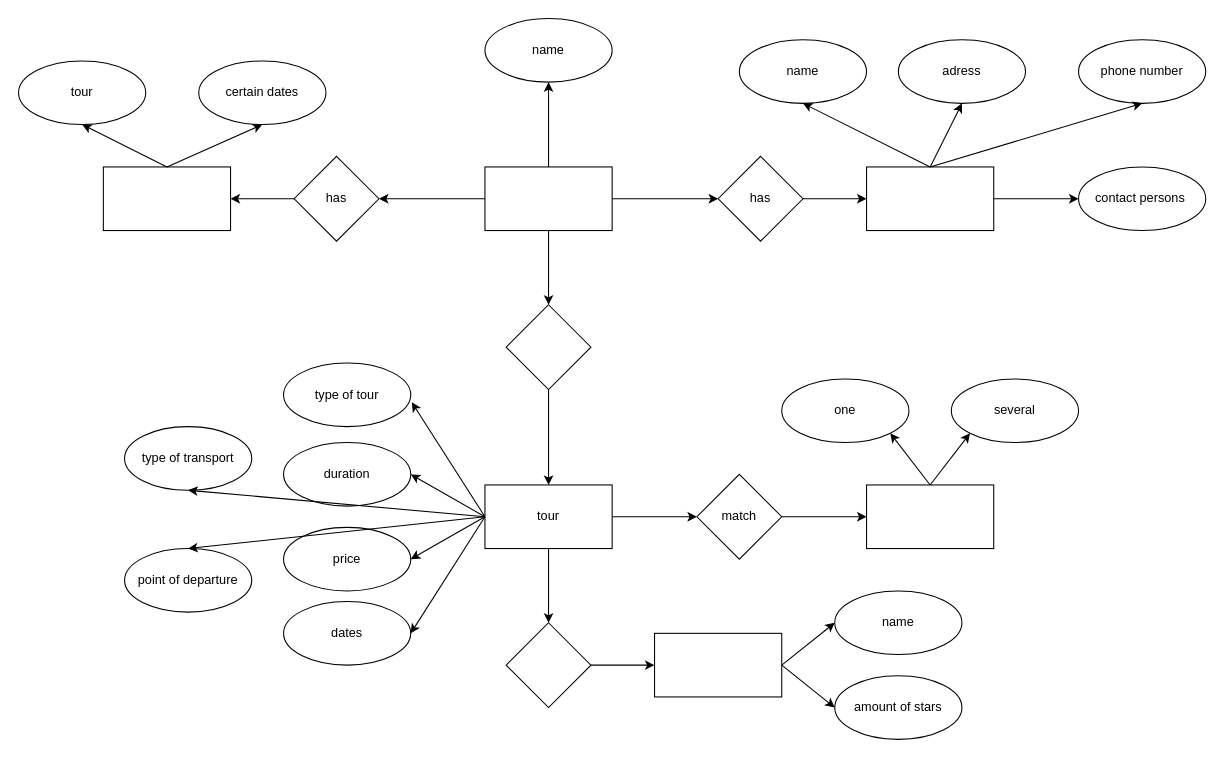
Some shapes in this 1224 by 758 pixel diagram are drawn without their labels. The centre of each missing label's shape, as x and y in pixels:
"has info" belongs at (548,665).
"hotel" belongs at (717,664).
"locality" belongs at (929,516).
"offer" belongs at (548,347).
"offices" belongs at (929,198).
"price list" belongs at (166,198).
"Travel agance" belongs at (548,198).
